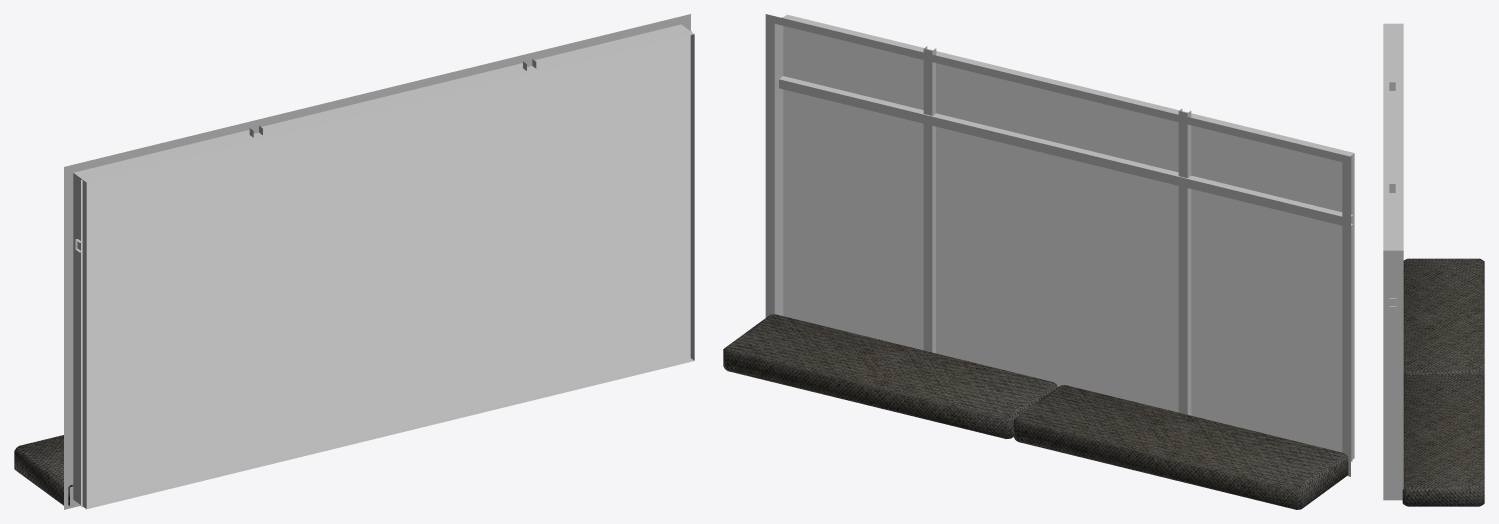
Rendered from M_Dogchuang02.FBX.
3 views of the same model, side by side, from view 1: azimuth 30°, elevation 25°; view 2: azimuth 150°, elevation 25°; view 3: azimuth 270°, elevation 25° (orthographic). The views are drawn at different scales.
Visible parts, largest first — view 1: M_chuang02_02, M_chuang02_01, M_chuang02_03; view 2: M_chuang02_02, M_chuang02_03, M_chuang02_01; view 3: M_chuang02_03, M_chuang02_01.
Boxes of the visible parts, x1,y1,x2,y2 form: M_chuang02_02: (81, 31, 691, 507); M_chuang02_01: (64, 14, 694, 509); M_chuang02_03: (14, 435, 73, 505); M_chuang02_02: (782, 17, 1352, 461); M_chuang02_03: (723, 314, 1348, 509); M_chuang02_01: (765, 14, 1354, 476); M_chuang02_03: (1402, 258, 1484, 506); M_chuang02_01: (1383, 23, 1403, 500).
Bounding box in the file's own units: 6.5 × 3.4 × 1.19.
